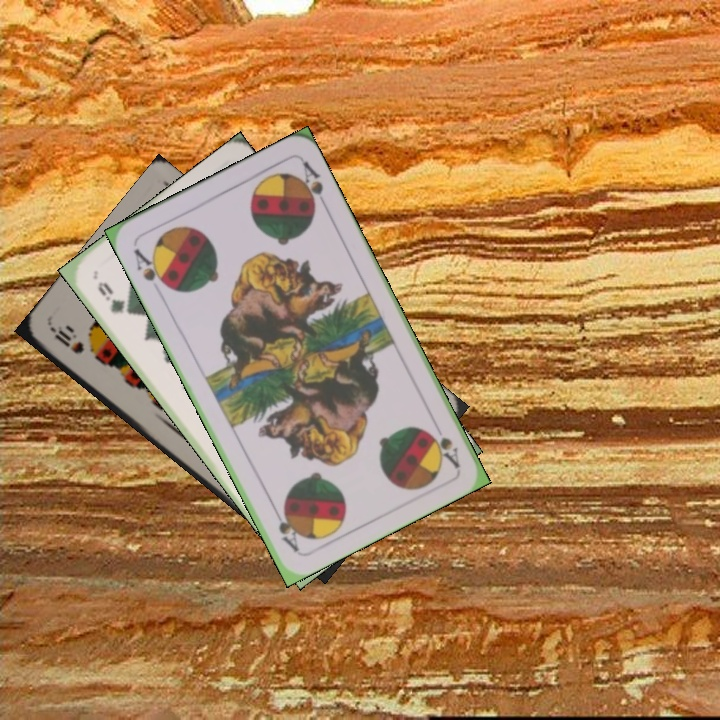G9: (93, 277, 133, 317)
S10: (47, 324, 87, 357)
SA: (129, 244, 172, 291), (424, 426, 463, 471)
